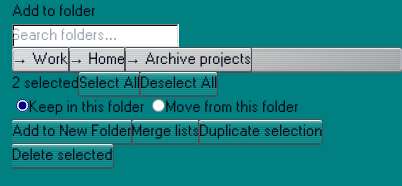
SelectionToolbar folder search › filters folders by name
This screenshot has width=402, height=186.
Type "work" into the search field labelled "Search folders" at point(96, 36), box [12,24,179,48]
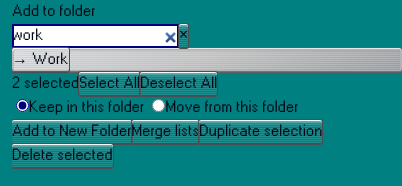
Check: the option "→ Work" is shown, box [12,48,68,72]
Check: the option "→ Home" is gone
